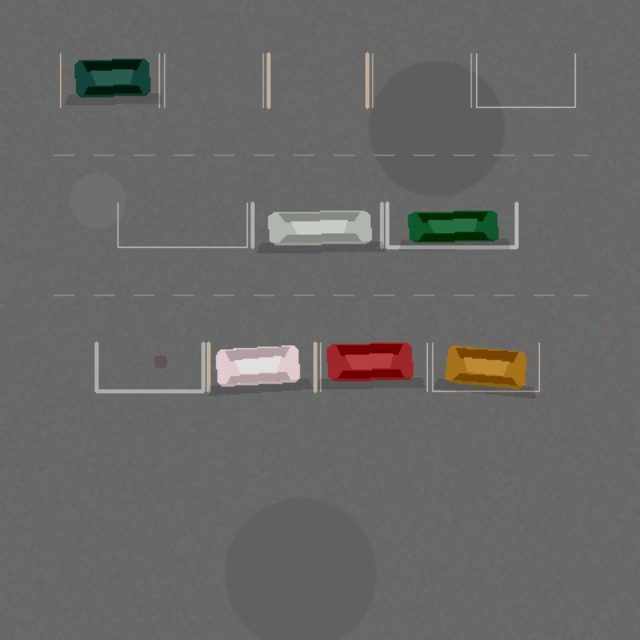space-empty: (117, 203, 247, 247), (164, 53, 263, 107), (268, 53, 367, 107), (372, 53, 471, 107), (476, 53, 575, 107), (96, 343, 203, 391)
space-occupied: (252, 203, 381, 247), (387, 203, 516, 247), (60, 53, 159, 107), (208, 343, 315, 391), (320, 343, 427, 391), (432, 343, 539, 391)
